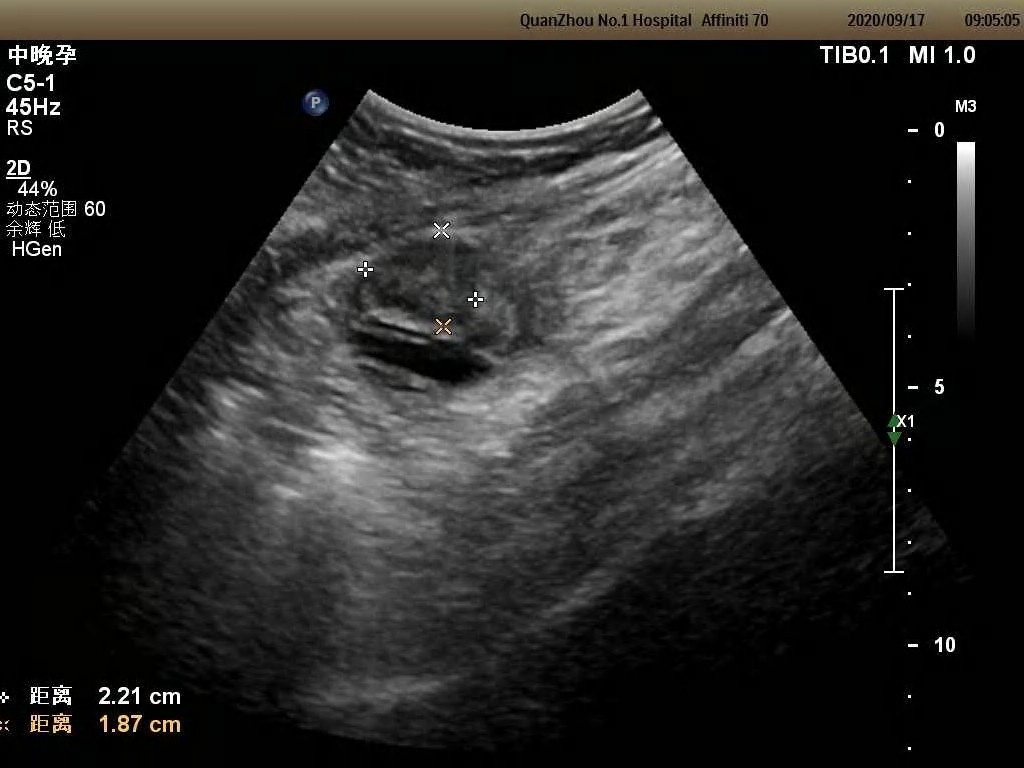肌瘤: (365, 228, 476, 326)
